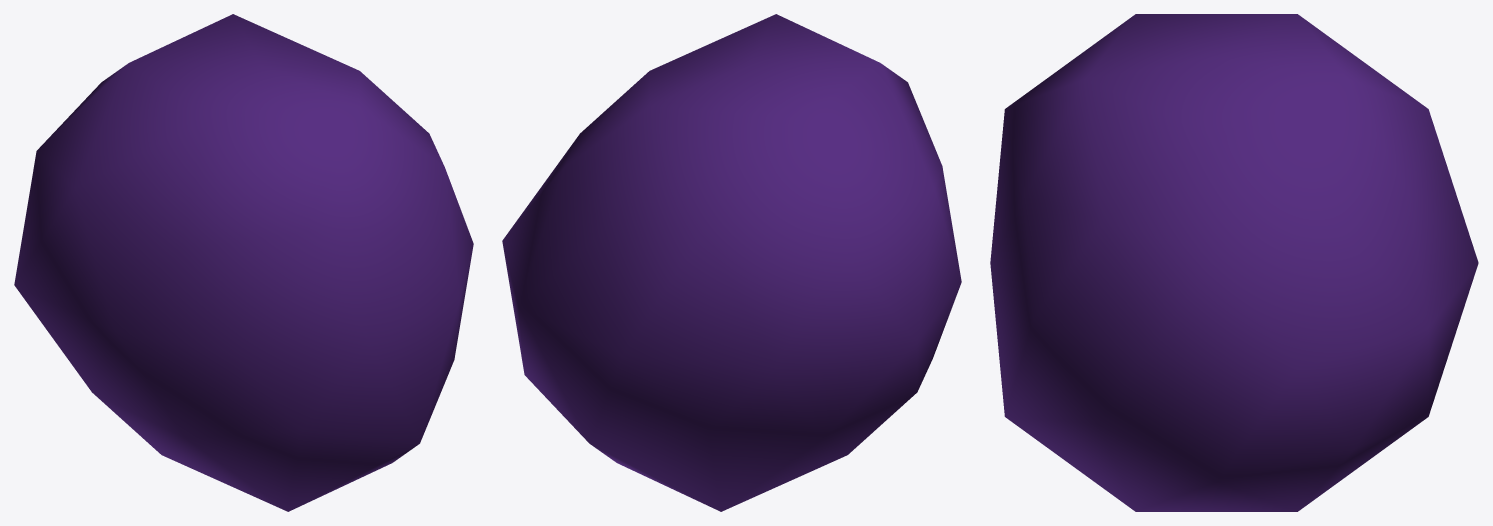
The model's file is BLOCKED_FLOW.glb.
The picture shows the model from 3 angles, left to right: view 1: azimuth 30°, elevation 25°; view 2: azimuth 150°, elevation 25°; view 3: azimuth 270°, elevation 25°; orthographic projection. The views are drawn at different scales.
Visible parts, largest first — view 1: ArcShape; view 2: ArcShape; view 3: ArcShape.
Boxes of the visible parts, x1,y1,x2,y2 form: ArcShape: (14,14,473,511); ArcShape: (502,14,961,511); ArcShape: (990,14,1478,511).
Bounding box in the file's own units: 2.24 × 2.2 × 2.2.
